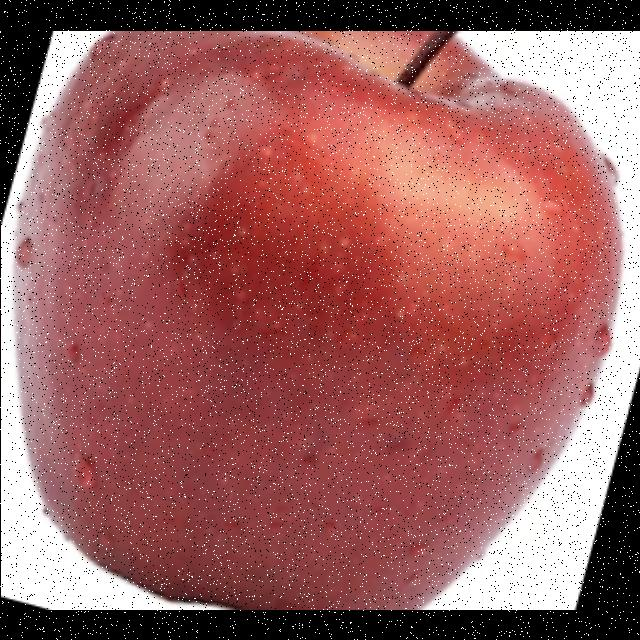Apel Segar: (1, 31, 626, 610)
